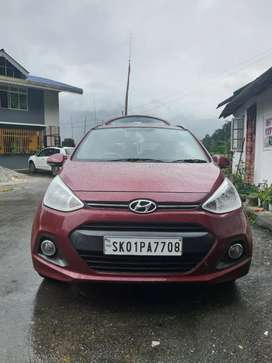SK01PA7708: (104, 237, 183, 256)
